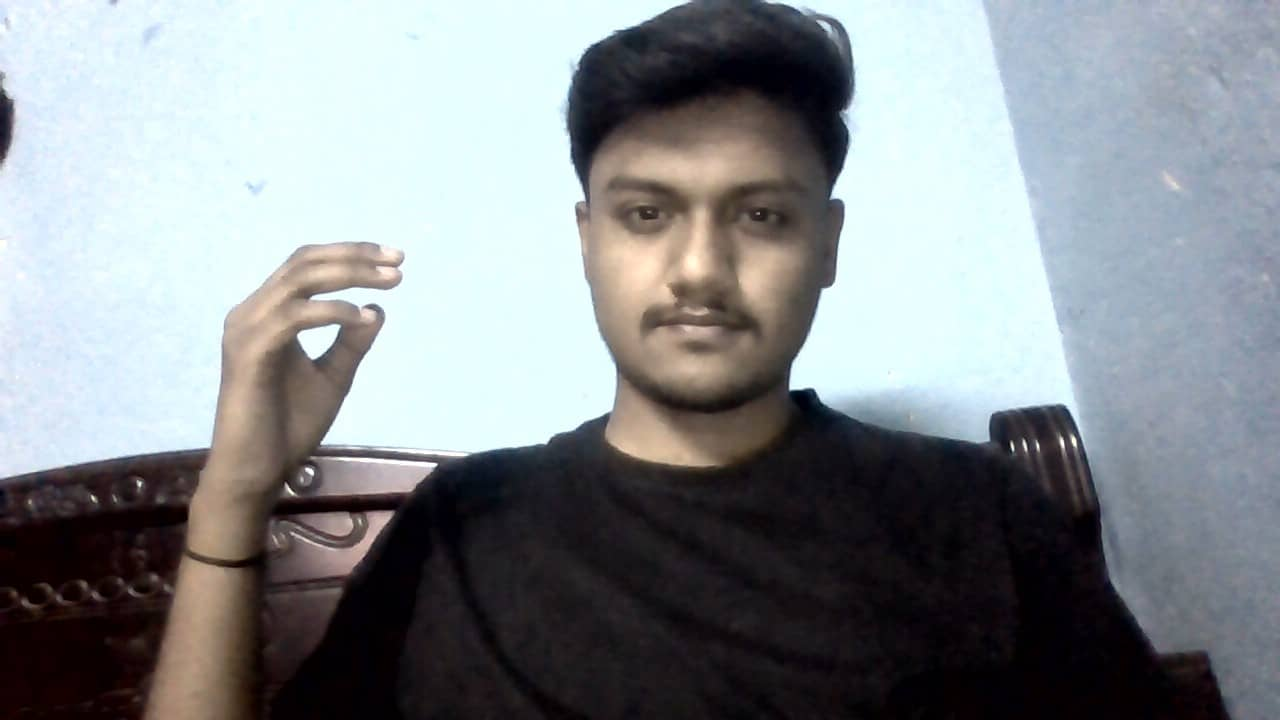hand: (212, 239, 412, 467)
